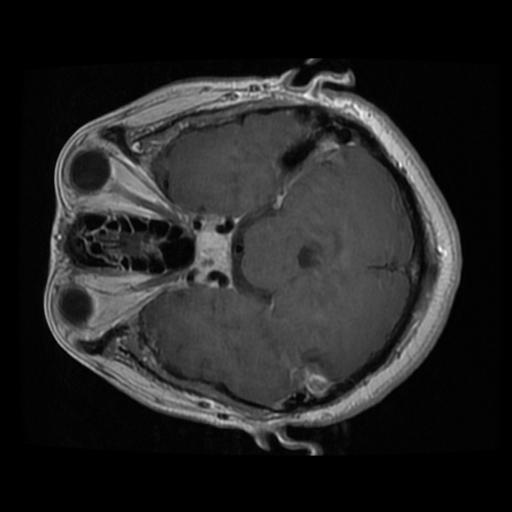pituitary tumour: (191, 228, 231, 276)
